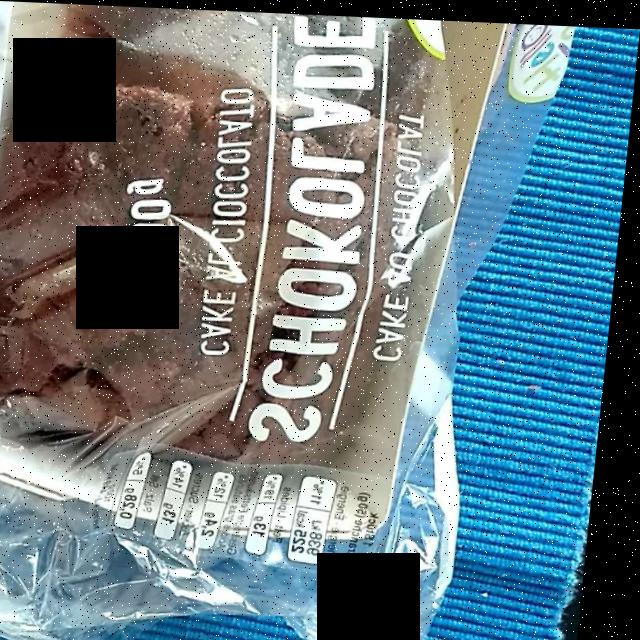cake-chocolate: (0, 8, 423, 434)
